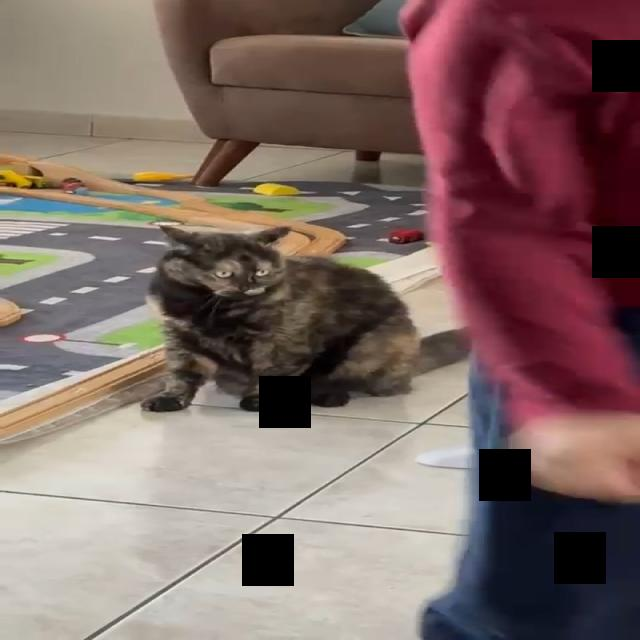authorized: (140, 223, 469, 413)
